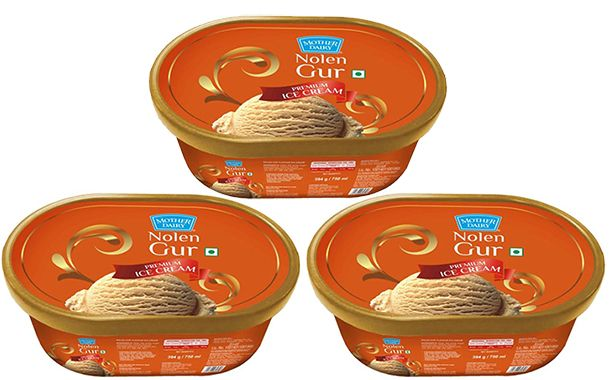Mother_Dairy: (452, 212, 510, 238), (144, 211, 202, 236), (294, 31, 345, 58)
